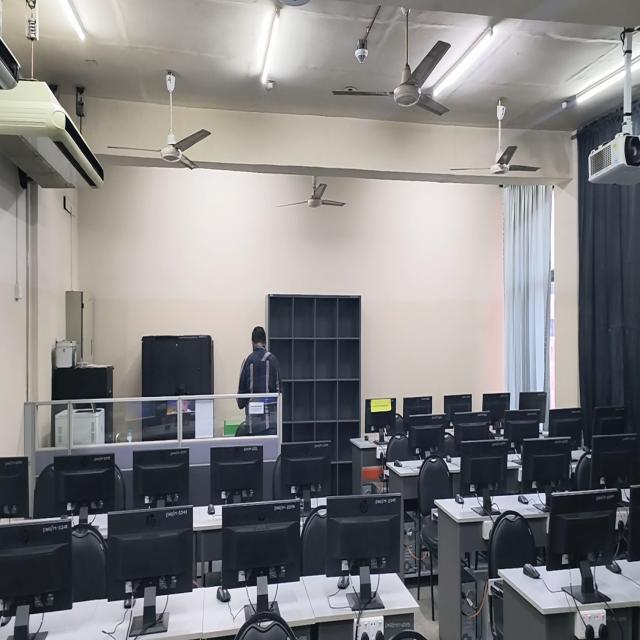Ac: (0, 79, 104, 188)
Chair: (418, 455, 452, 569), (487, 510, 537, 578), (72, 523, 107, 601), (234, 609, 296, 639), (301, 506, 327, 575), (33, 465, 66, 518), (625, 485, 640, 561), (386, 433, 408, 462)
Light: (433, 27, 494, 96), (260, 0, 283, 91), (577, 66, 623, 103), (60, 0, 85, 41), (632, 51, 640, 71)
Monitor: (106, 506, 193, 601), (221, 500, 301, 588), (0, 520, 72, 617), (325, 494, 401, 576), (547, 490, 617, 569), (53, 454, 116, 513), (279, 443, 331, 514), (133, 448, 190, 507), (210, 447, 263, 503), (521, 437, 571, 491), (460, 440, 507, 496), (590, 434, 636, 488), (0, 456, 29, 518), (406, 415, 444, 457), (503, 410, 540, 452), (548, 408, 583, 449), (454, 412, 492, 446), (482, 392, 510, 433), (365, 398, 396, 433), (592, 406, 626, 436), (403, 396, 432, 429), (444, 394, 472, 426), (519, 392, 547, 422)
Mouse: (337, 560, 350, 589), (216, 585, 230, 603), (523, 564, 540, 578), (124, 597, 135, 609), (518, 495, 528, 504), (456, 494, 464, 503), (208, 504, 215, 514), (394, 460, 402, 466)
Projector: (588, 133, 640, 185)
